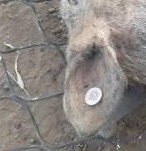text: (78, 82, 110, 115)
